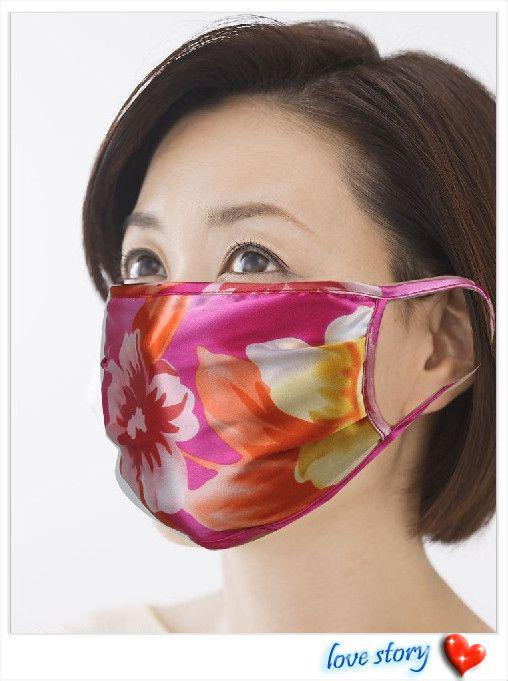OK: (79, 210, 409, 540)
